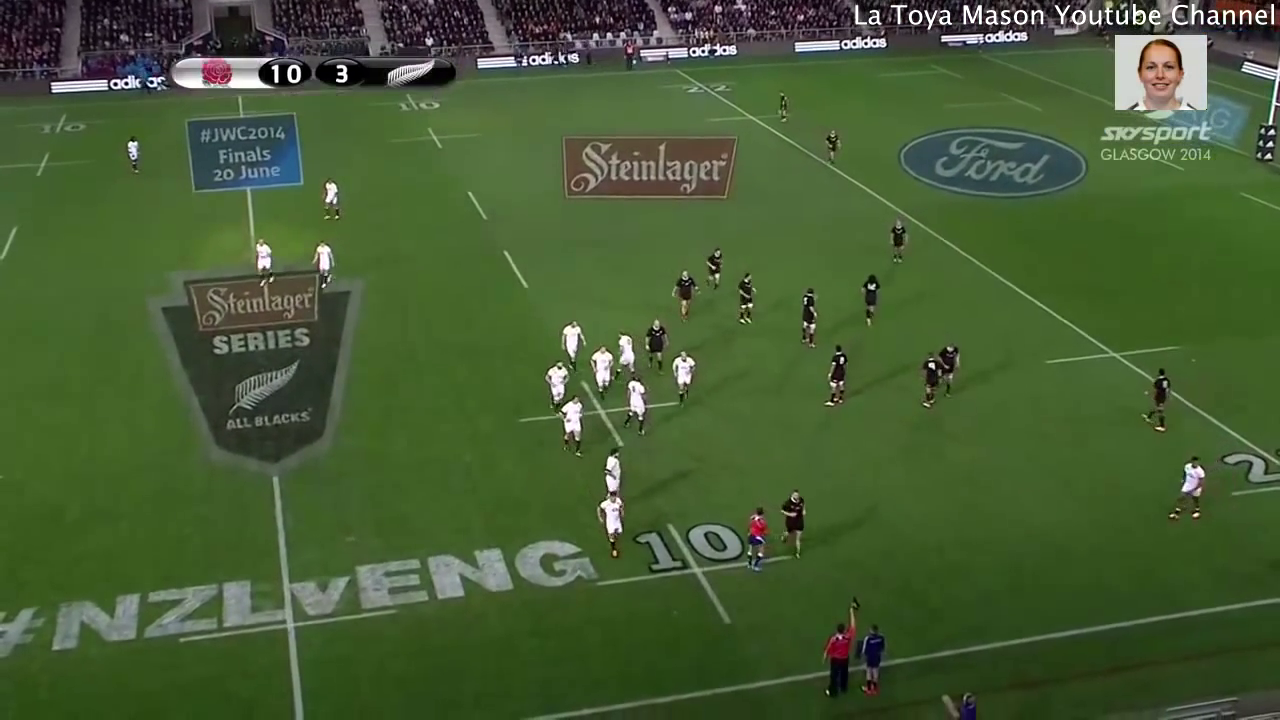10_metre: (1, 153, 97, 184), (19, 111, 104, 145), (389, 126, 482, 156), (369, 92, 450, 122)
player: (823, 599, 857, 696), (593, 494, 629, 561), (1141, 364, 1174, 436), (1170, 451, 1203, 522), (859, 620, 888, 696), (779, 484, 805, 560), (667, 268, 699, 322), (919, 352, 948, 410), (558, 396, 585, 458), (623, 375, 649, 438), (643, 319, 669, 379), (743, 505, 765, 575), (825, 345, 849, 408), (885, 217, 912, 272), (670, 348, 696, 404), (249, 237, 277, 288), (309, 241, 336, 293), (587, 344, 613, 398), (736, 272, 759, 331), (562, 320, 588, 372), (797, 284, 818, 348), (610, 330, 638, 378), (600, 450, 629, 496), (319, 175, 345, 226), (543, 362, 566, 416), (938, 340, 960, 393), (123, 133, 146, 178), (703, 244, 725, 291), (861, 271, 879, 327), (823, 124, 842, 169), (777, 92, 789, 125)
post: (1251, 103, 1280, 162)
